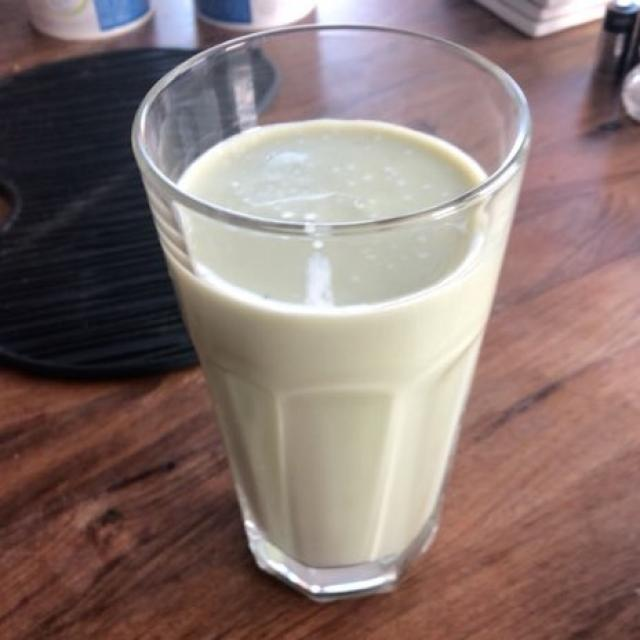milk: (172, 120, 500, 571)
